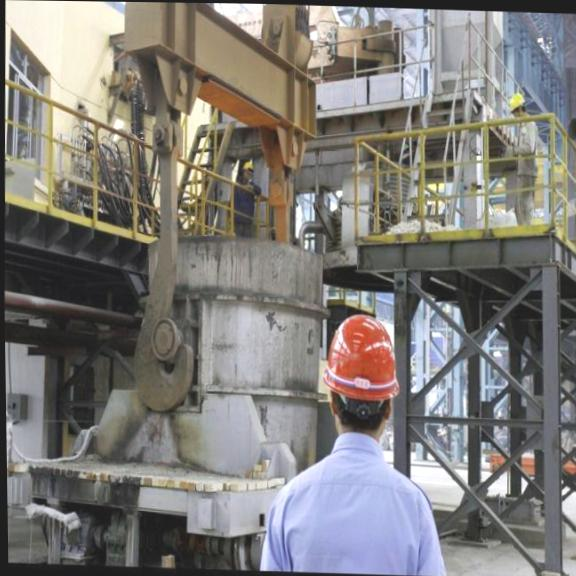no_safety_vest: (268, 432, 445, 572)
